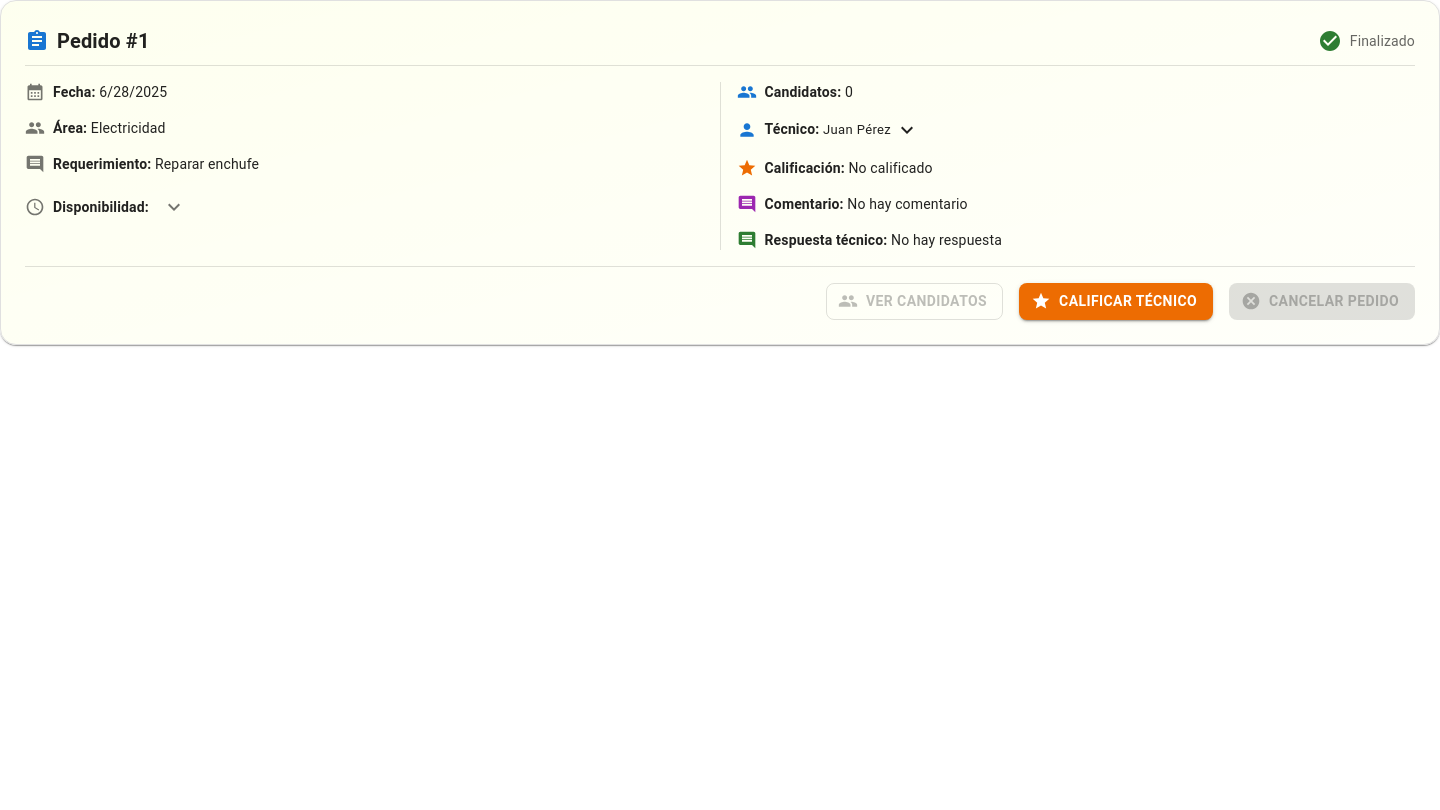
it: PedidoCardCliente › permite calificar técnico si corresponde
Click the button "Calificar Técnico". click: point(1116, 301)
box: [1019, 283, 1213, 320]
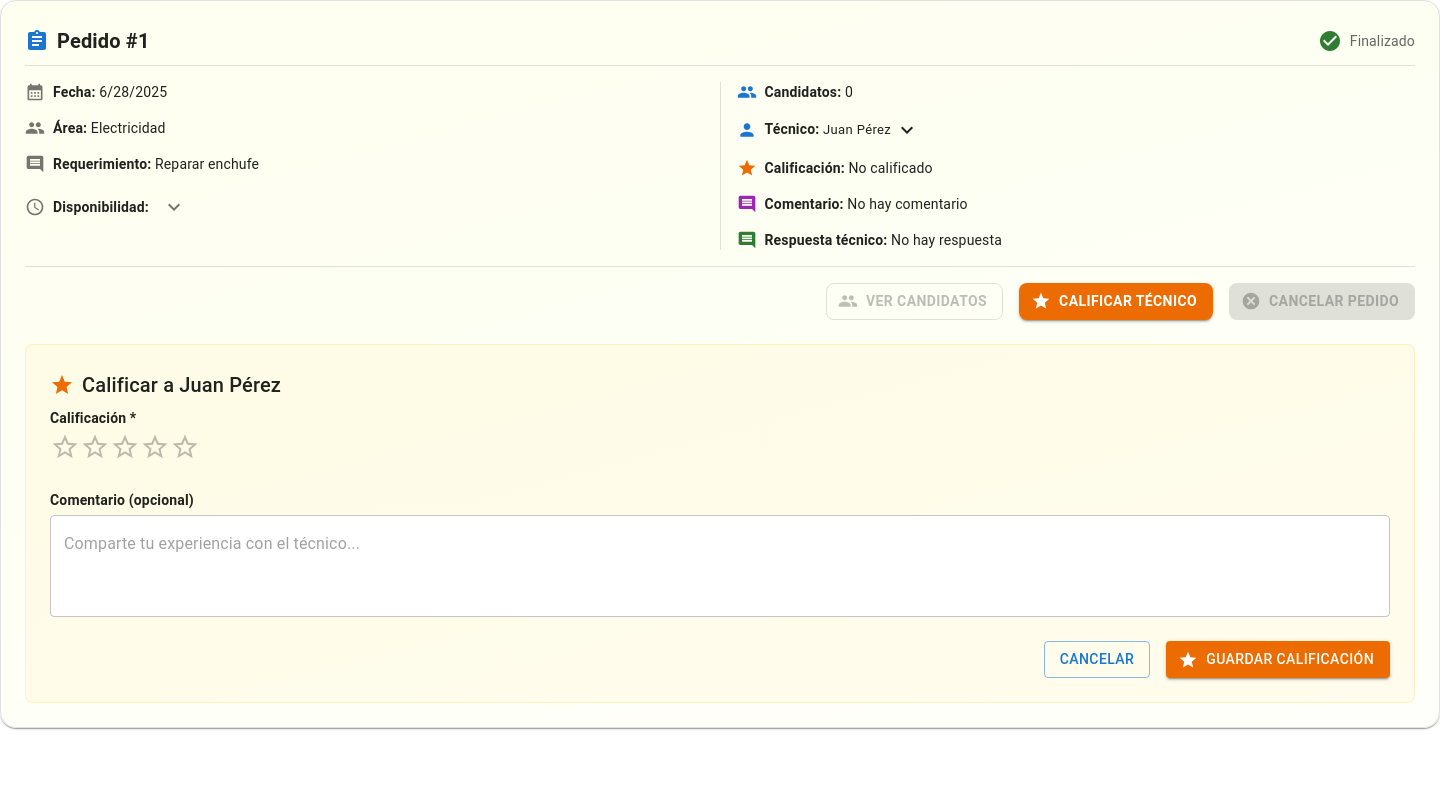
Note: Seleccionar calificación
Click the 5th radio button. click: point(185, 448)
box: [170, 432, 200, 462]
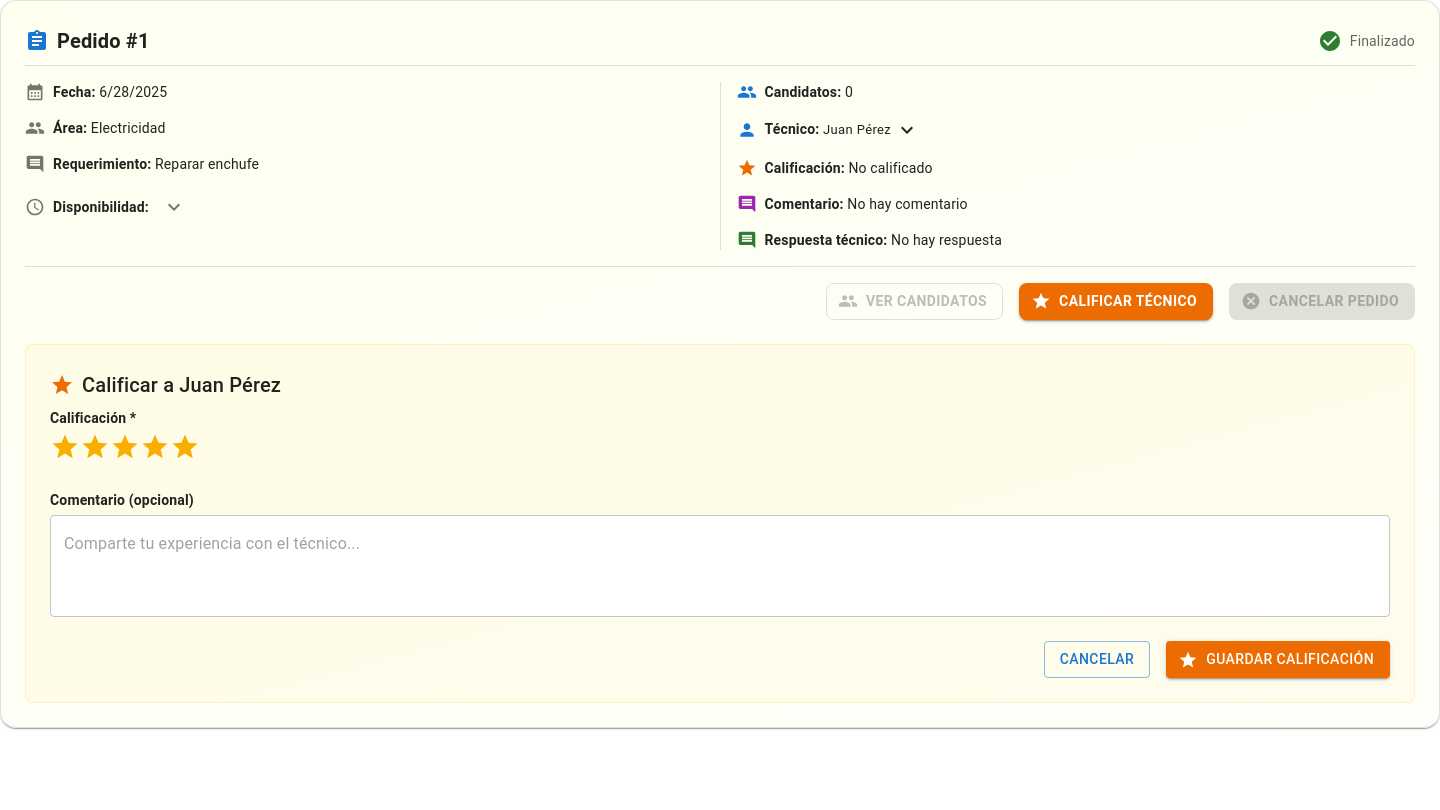
Click the button "Guardar Calificación". click: point(1278, 660)
box: [1166, 641, 1390, 678]
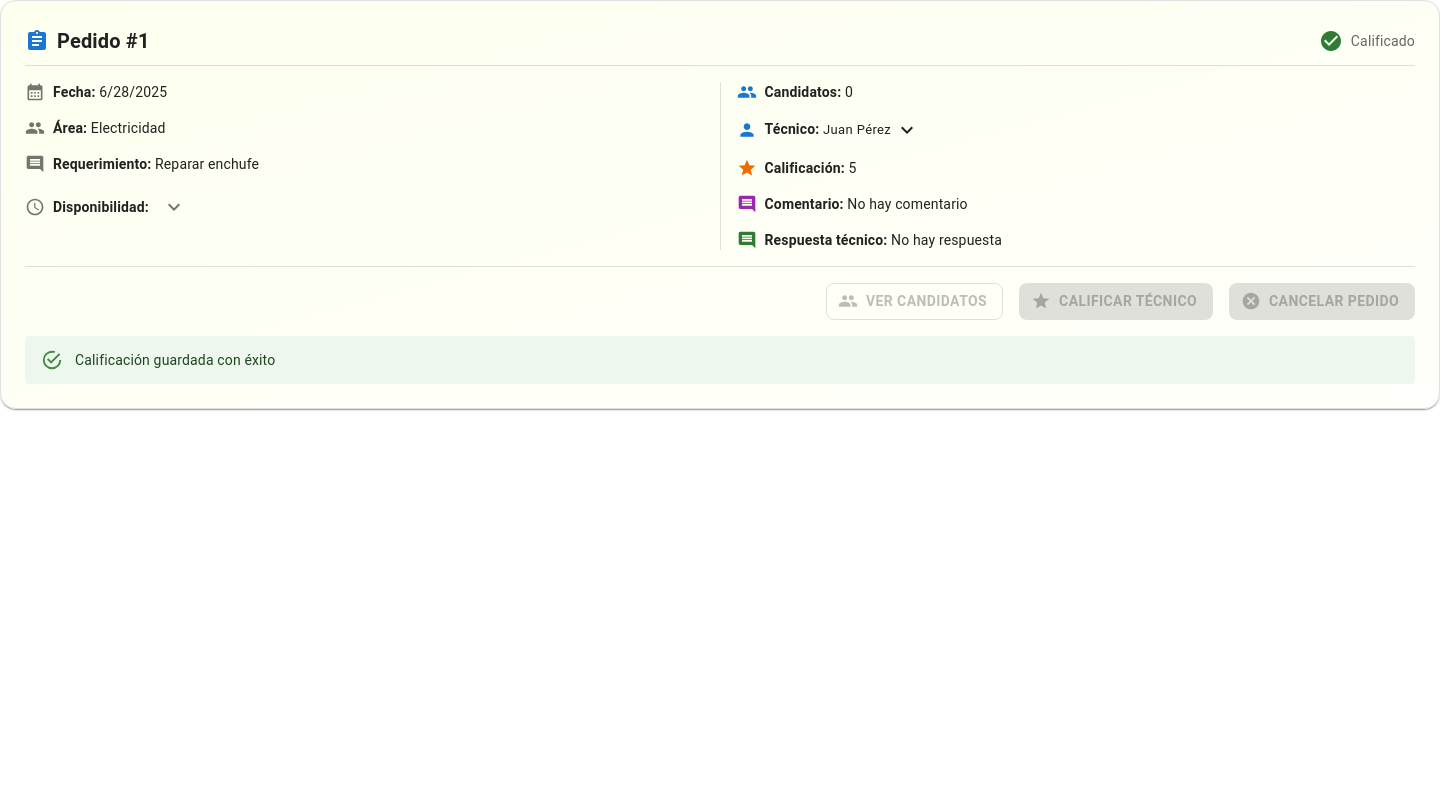
Check: the text "Calificación guardada con éxito" is shown, box [75, 352, 275, 368]
